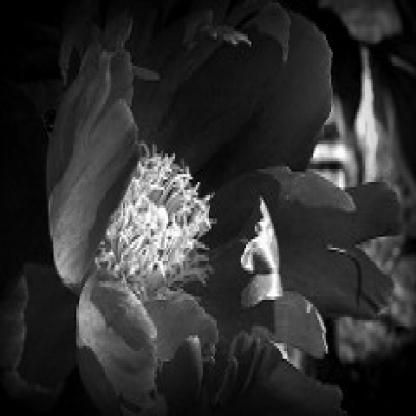Rose-Mawar: (43, 6, 384, 409)
